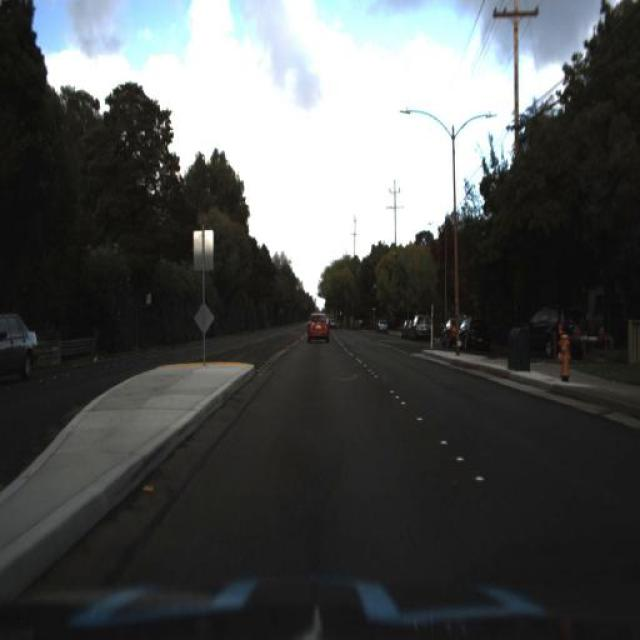car: (522, 302, 593, 361), (0, 309, 39, 387), (458, 307, 493, 354), (304, 308, 328, 348)
